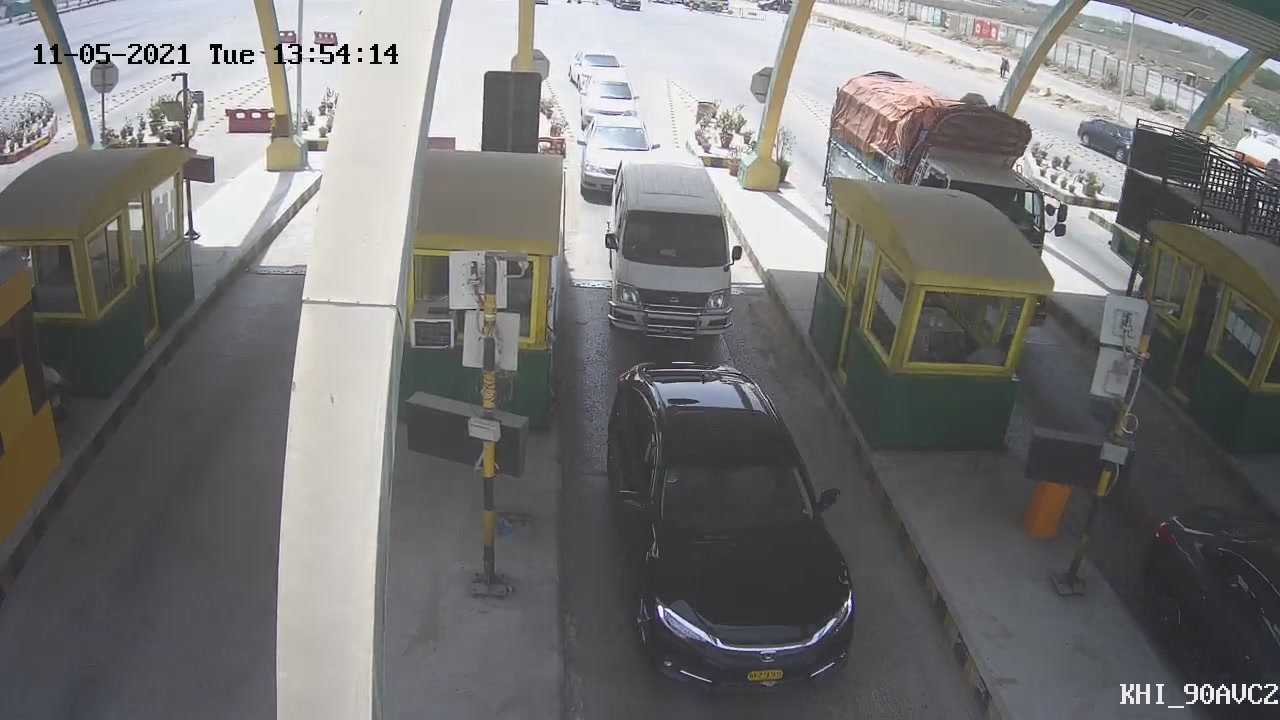F2: (602, 154, 750, 360)
